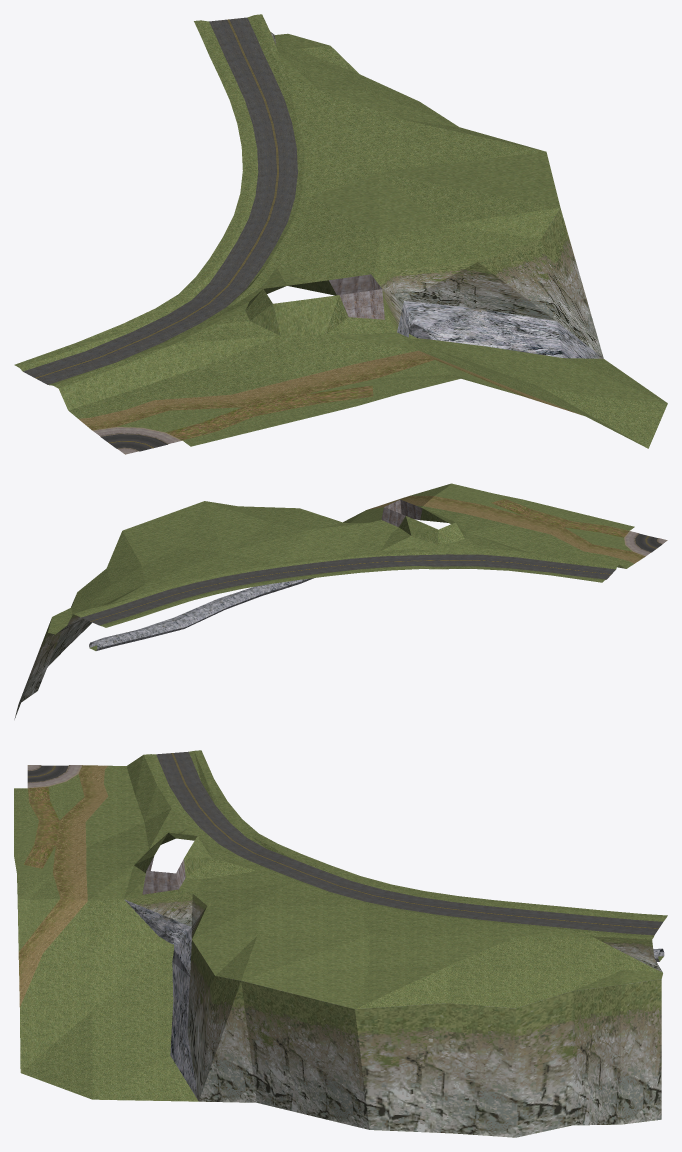
The model's file is s_bit_02.obj.
3 renders of one model, top to bottom at view 1: azimuth 30°, elevation 25°; view 2: azimuth 150°, elevation 25°; view 3: azimuth 270°, elevation 25°, orthographic. The views are drawn at different scales.
Visible parts, largest first — view 1: s_bit_02; view 2: s_bit_02; view 3: s_bit_02.
Part boxes in pixels (box(x1,y1,x2,y2)): s_bit_02: box(14, 14, 667, 454); s_bit_02: box(14, 483, 667, 719); s_bit_02: box(14, 750, 667, 1137).
Bounding box in the file's own units: 228 × 59.18 × 238.
13 materials, 13 textured.
